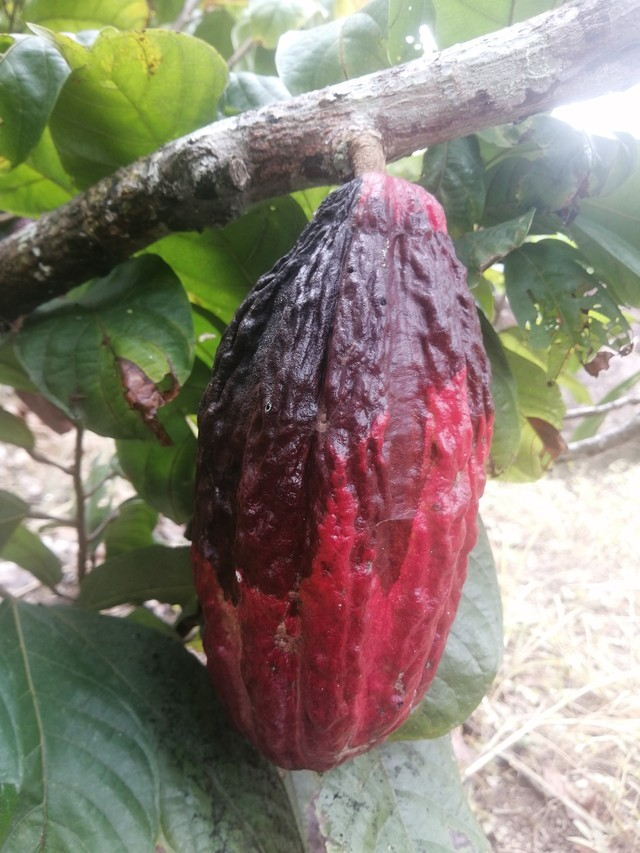phytophthora palmivora: (181, 166, 505, 779)
